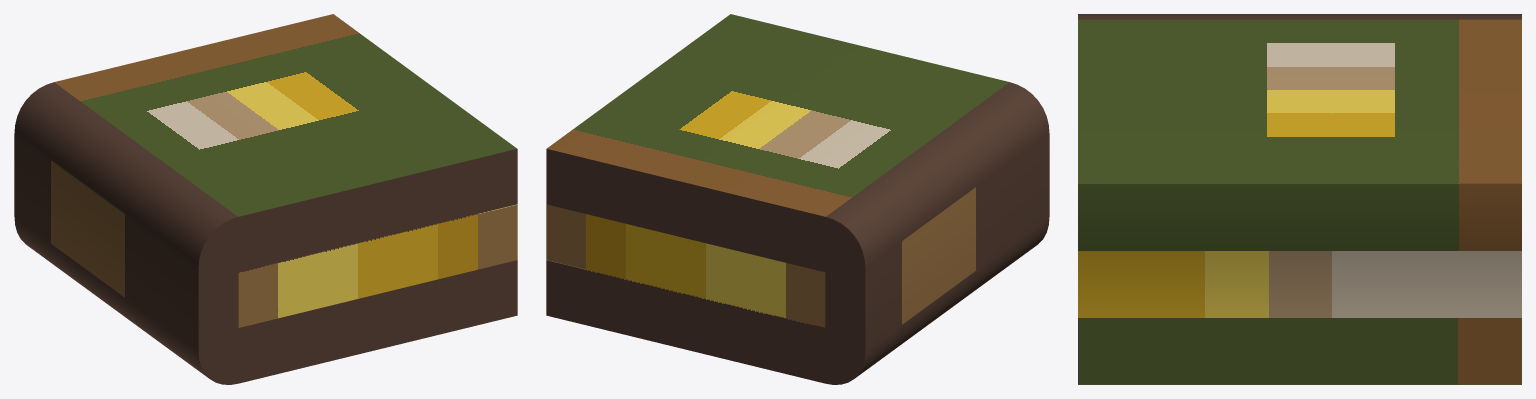
File: book_642x07.obj
The picture shows the model from 3 angles, left to right: view 1: azimuth 30°, elevation 25°; view 2: azimuth 150°, elevation 25°; view 3: azimuth 270°, elevation 25°; orthographic projection. The views are drawn at different scales.
Parts seen in each view (by area): view 1: Cube; view 2: Cube; view 3: Cube.
Part boxes in pixels (x1,y1,x2,y2): Cube: (14, 14, 517, 384); Cube: (546, 14, 1049, 384); Cube: (1078, 14, 1521, 384).
Bounding box in the file's own units: 1 × 0.5 × 1.
